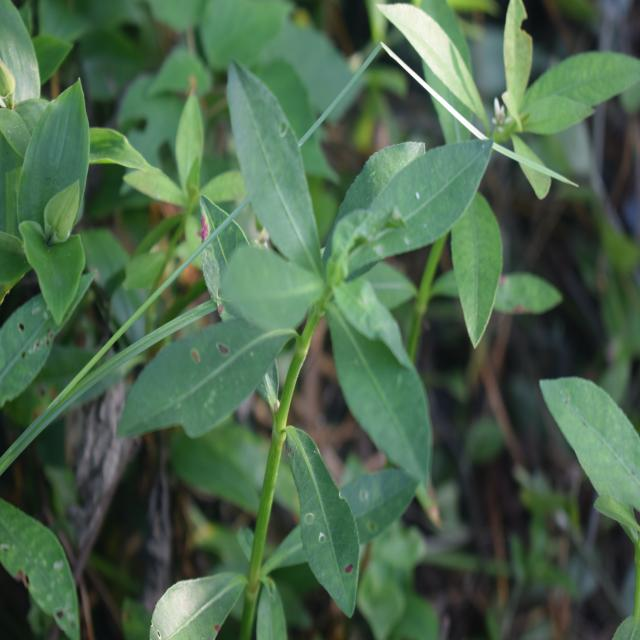Alligatorweed: (169, 45, 464, 513)
